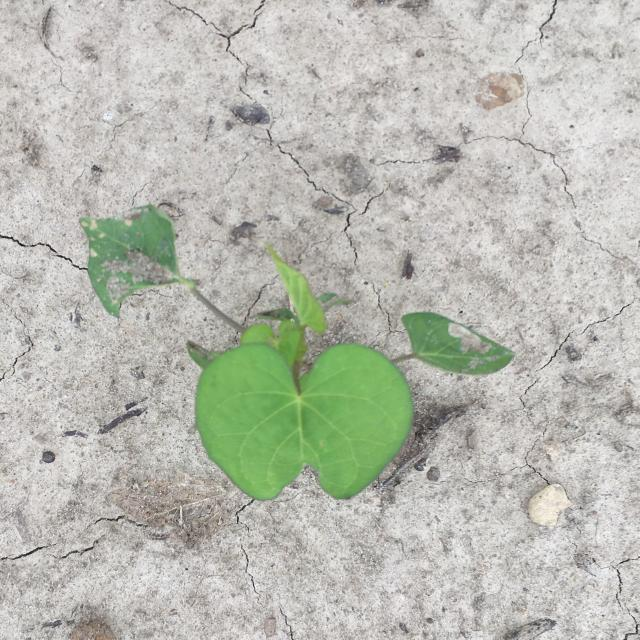MorningGlory: (78, 204, 517, 500)
